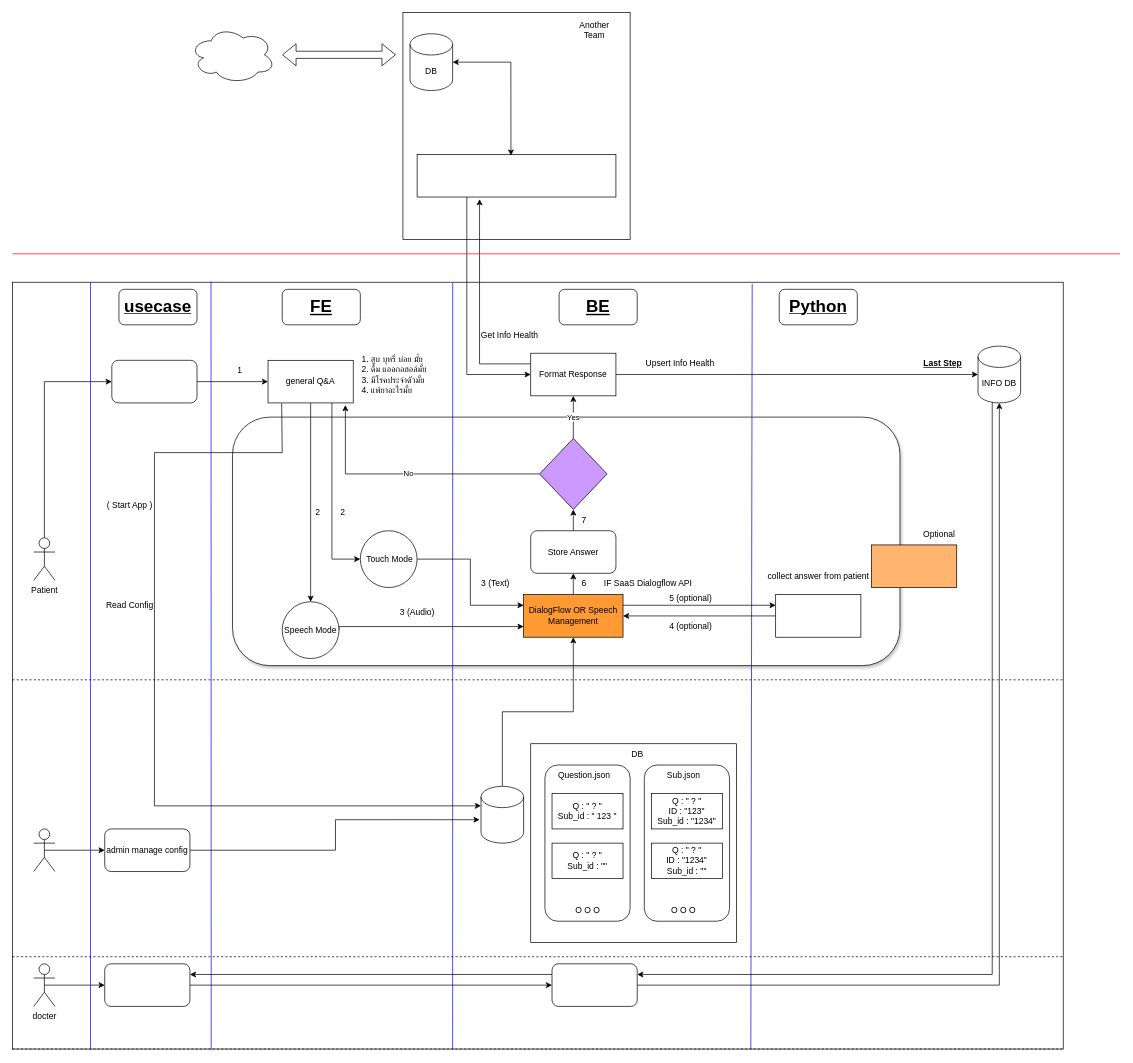
The diagram is 1133 pixels wide and 1063 high, and some of its shapes have lost their labels. The centre of each missing label's shape, as x and y in pixels:
Admin: point 44,850
Get Info API: point 594,984
get patient info: point 147,984
interview patient: point 154,381
Is All Question: point 573,473
Own model: point 914,566
sensor: point 232,54
Speech DB: point 502,814
Speech to text: point 818,615
ค่าต่างๆ จากเครื่องสุขภาพ เช่น ความดัน , น้ำตาล , สส , นน , อตกต <3: point 516,175
